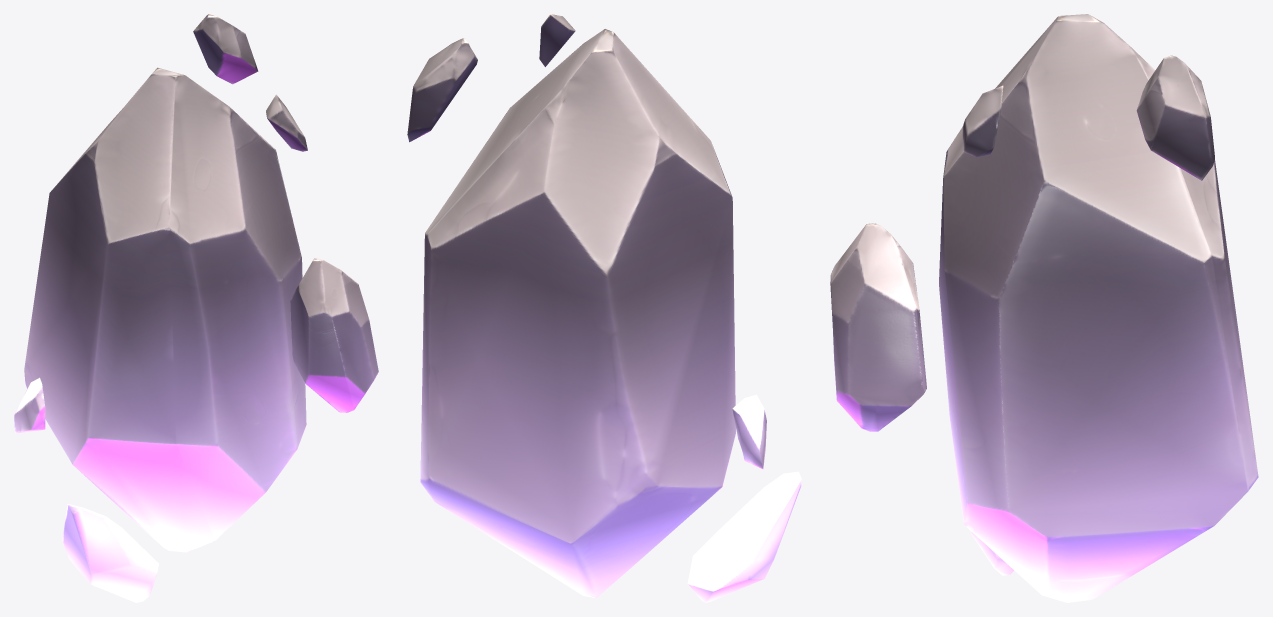
Rendered from SM_Crystal.fbx.
The picture shows the model from 3 angles, left to right: view 1: azimuth 30°, elevation 25°; view 2: azimuth 150°, elevation 25°; view 3: azimuth 270°, elevation 25°; orthographic projection. The views are drawn at different scales.
Parts seen in each view (by area): view 1: SM_Crystal, SmallCrystal_4, SmallCrystal_3, SmallCrystal_1, SmallCrystal_2, SmallCrystal_5; view 2: SM_Crystal, SmallCrystal_3, SmallCrystal_1, SmallCrystal_2, SmallCrystal_5; view 3: SM_Crystal, SmallCrystal_4, SmallCrystal_1, SmallCrystal_5.
Part boxes in pixels (<box>): SM_Crystal: <box>24,67,306,552</box>; SmallCrystal_4: <box>290,258,378,412</box>; SmallCrystal_3: <box>62,503,158,602</box>; SmallCrystal_1: <box>193,14,258,84</box>; SmallCrystal_2: <box>14,377,45,433</box>; SmallCrystal_5: <box>266,94,307,151</box>; SM_Crystal: <box>420,29,735,597</box>; SmallCrystal_3: <box>687,471,801,602</box>; SmallCrystal_1: <box>407,38,477,142</box>; SmallCrystal_2: <box>732,394,766,468</box>; SmallCrystal_5: <box>539,14,575,66</box>; SM_Crystal: <box>939,14,1258,602</box>; SmallCrystal_4: <box>830,223,926,431</box>; SmallCrystal_1: <box>1136,55,1214,180</box>; SmallCrystal_5: <box>962,85,1003,157</box>.
Bounding box in the file's own units: 267 × 480 × 310.
